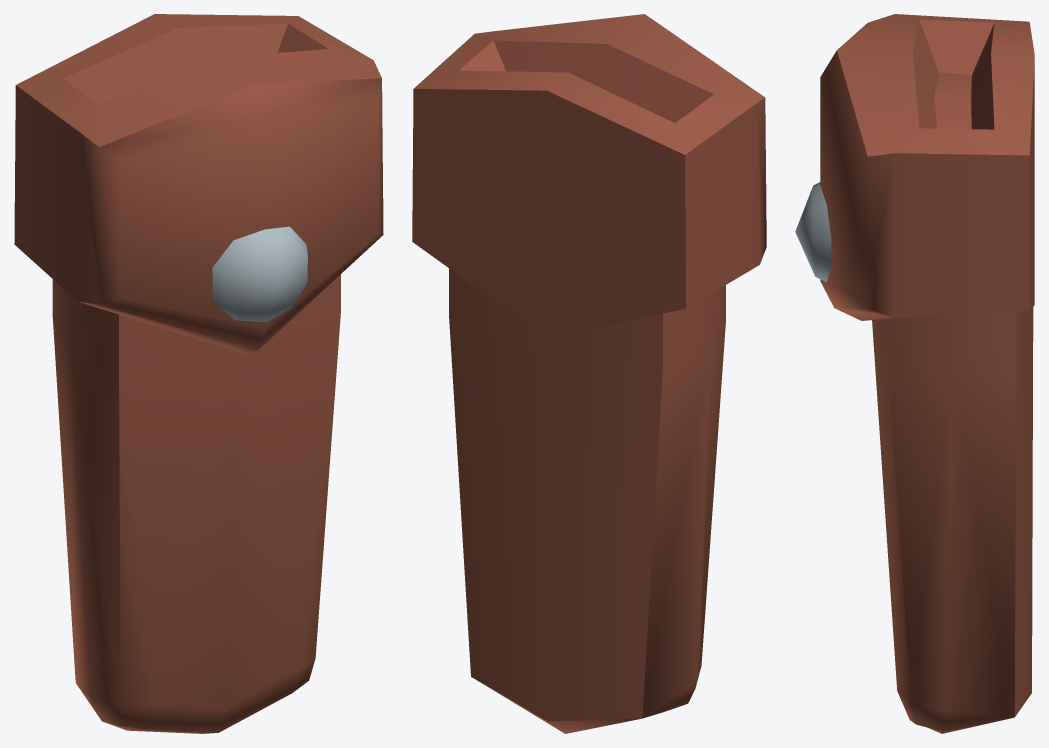
File: quiver_empty.glb
3 views of the same model, side by side, from view 1: azimuth 30°, elevation 25°; view 2: azimuth 150°, elevation 25°; view 3: azimuth 270°, elevation 25° (orthographic). The views are drawn at different scales.
Visible parts, largest first — view 1: quiver_empty; view 2: quiver_empty; view 3: quiver_empty.
Boxes of the visible parts, x1=… form: quiver_empty: x1=14, y1=14, x2=383, y2=733; quiver_empty: x1=412, y1=14, x2=766, y2=733; quiver_empty: x1=795, y1=14, x2=1034, y2=733.
Bounding box in the file's own units: 0.0434 × 0.096 × 0.0311.
